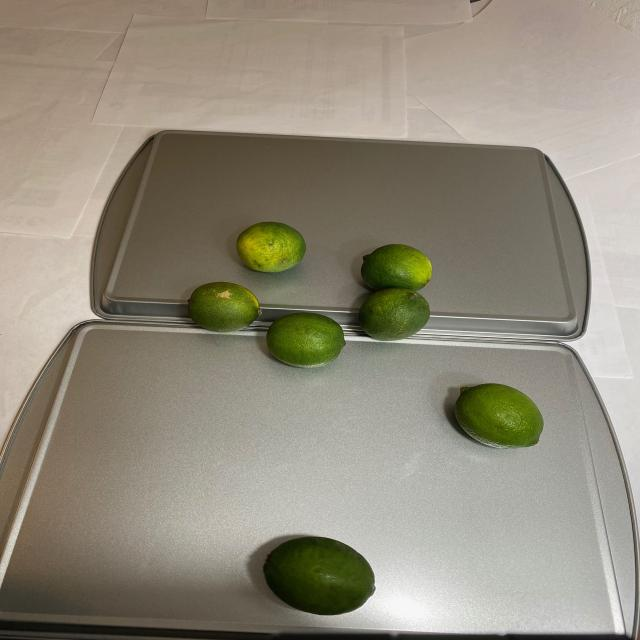lemon: (181, 222, 435, 368), (263, 537, 380, 617), (450, 380, 546, 450)
